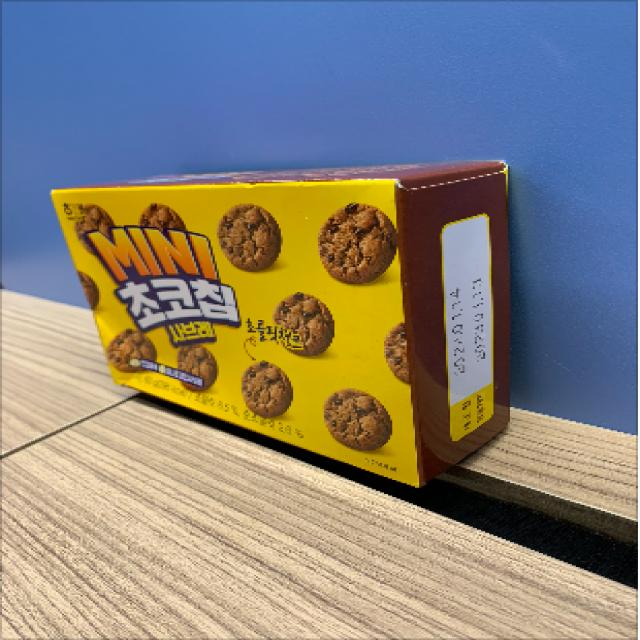object_name: (74, 172, 507, 438)
